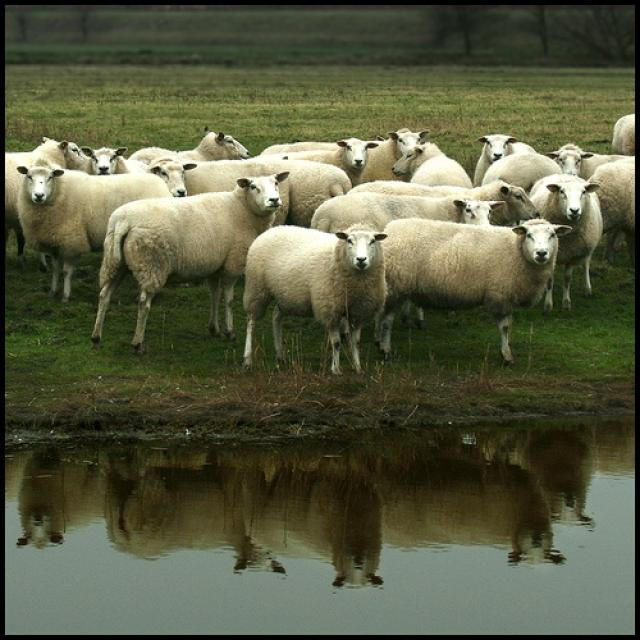sheep: (94, 168, 290, 350), (376, 218, 575, 368), (241, 222, 393, 380), (9, 161, 177, 301), (0, 137, 87, 260), (526, 176, 599, 322), (344, 179, 539, 227), (303, 188, 494, 237), (261, 127, 426, 174), (580, 156, 639, 259), (385, 140, 474, 190), (132, 136, 252, 166), (556, 142, 630, 184), (296, 139, 375, 178), (471, 133, 535, 179), (477, 150, 557, 184), (82, 144, 148, 176), (158, 159, 190, 196), (610, 112, 638, 154)
